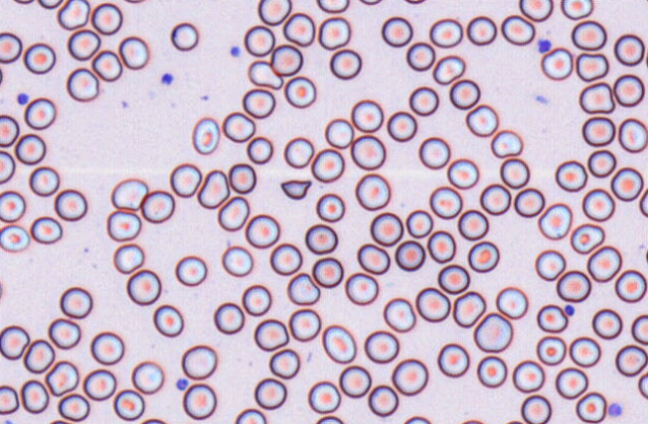PLT: (606, 400, 625, 418), (535, 39, 554, 55), (158, 71, 175, 87), (15, 91, 31, 106), (229, 46, 242, 59), (564, 303, 575, 316)
RBC: (473, 312, 512, 352), (391, 358, 428, 395), (321, 324, 356, 363), (586, 245, 622, 282), (355, 172, 390, 210), (537, 202, 572, 240), (350, 134, 386, 170), (126, 268, 161, 305), (181, 344, 217, 379), (110, 177, 148, 210), (197, 169, 229, 208), (415, 287, 450, 322), (245, 213, 280, 248), (45, 360, 79, 396), (182, 383, 216, 419), (452, 290, 485, 327), (578, 81, 615, 114), (369, 211, 403, 246), (140, 189, 175, 223), (363, 330, 399, 363), (253, 318, 289, 351), (581, 187, 615, 221), (90, 331, 124, 365), (556, 269, 591, 302), (311, 148, 344, 183), (610, 166, 643, 201), (217, 195, 249, 231), (282, 12, 315, 46), (317, 16, 351, 49), (66, 67, 99, 101), (286, 272, 320, 305), (540, 46, 573, 80), (344, 272, 378, 305), (429, 185, 462, 219), (131, 360, 164, 394), (53, 188, 87, 221), (23, 338, 55, 373), (383, 297, 415, 332), (169, 162, 201, 197), (437, 342, 469, 377), (106, 209, 141, 241), (571, 19, 607, 50), (191, 116, 220, 154), (270, 43, 303, 76), (283, 75, 316, 108), (512, 359, 545, 392), (555, 366, 588, 399), (495, 286, 528, 319), (288, 308, 321, 341), (307, 380, 340, 413), (269, 242, 302, 275), (350, 99, 383, 132), (465, 103, 498, 136), (356, 242, 390, 274), (82, 368, 116, 400), (47, 317, 81, 349), (500, 14, 535, 45), (247, 59, 283, 89), (67, 28, 100, 60), (339, 365, 371, 398), (614, 269, 646, 302), (418, 136, 450, 169), (59, 286, 92, 318), (555, 159, 587, 192), (304, 223, 338, 254), (118, 35, 149, 69), (570, 223, 604, 254), (613, 73, 644, 107), (618, 117, 648, 152), (243, 24, 275, 56), (90, 2, 122, 34), (23, 42, 55, 74), (615, 344, 647, 376), (254, 377, 286, 409), (467, 240, 499, 272), (479, 183, 511, 215), (112, 242, 144, 274), (24, 97, 56, 129), (242, 87, 275, 118), (446, 158, 479, 189), (476, 355, 507, 388), (222, 111, 255, 142), (152, 304, 183, 337), (613, 33, 644, 66), (429, 17, 463, 47), (581, 116, 615, 146), (0, 324, 29, 359), (329, 48, 361, 79), (91, 49, 122, 81), (437, 263, 469, 294), (367, 384, 398, 416), (268, 348, 300, 379), (386, 110, 417, 142), (283, 136, 314, 168), (394, 239, 425, 271), (575, 391, 606, 423), (311, 256, 343, 287), (113, 389, 145, 420), (534, 249, 565, 281), (14, 133, 46, 164), (221, 245, 253, 276), (213, 302, 244, 334), (175, 255, 207, 286), (57, 0, 90, 30), (20, 379, 49, 413), (457, 209, 488, 240), (408, 85, 439, 116), (381, 16, 412, 47), (28, 165, 59, 196), (449, 78, 480, 109), (591, 308, 622, 339), (569, 336, 600, 367), (324, 117, 354, 149), (241, 284, 271, 316), (427, 230, 456, 263), (490, 129, 523, 158), (575, 52, 608, 81), (499, 157, 529, 188), (513, 187, 544, 217), (466, 15, 497, 45), (536, 303, 568, 332), (57, 393, 90, 421), (315, 192, 345, 222), (405, 41, 435, 71), (536, 335, 566, 365), (520, 394, 551, 423), (228, 162, 256, 194), (30, 216, 62, 244), (257, 0, 291, 25), (587, 149, 616, 178), (0, 224, 30, 252), (405, 209, 433, 238), (170, 21, 198, 50), (0, 190, 25, 222), (246, 135, 273, 164), (519, 0, 553, 21), (0, 31, 22, 63), (560, 0, 593, 20), (0, 114, 19, 147), (0, 384, 19, 414), (631, 314, 647, 345), (0, 150, 15, 183), (234, 408, 266, 423), (316, 0, 349, 13), (638, 371, 648, 399), (639, 187, 648, 217), (402, 415, 431, 423), (315, 415, 344, 423), (37, 0, 63, 8), (139, 417, 167, 423), (459, 418, 485, 423), (357, 0, 383, 5), (503, 419, 525, 424), (402, 0, 427, 4), (48, 419, 71, 423), (12, 0, 34, 4), (645, 42, 648, 71), (0, 275, 3, 303), (0, 63, 3, 88), (122, 0, 147, 3), (645, 244, 648, 266)
Schistocyte: (434, 56, 466, 85), (280, 179, 314, 201)
